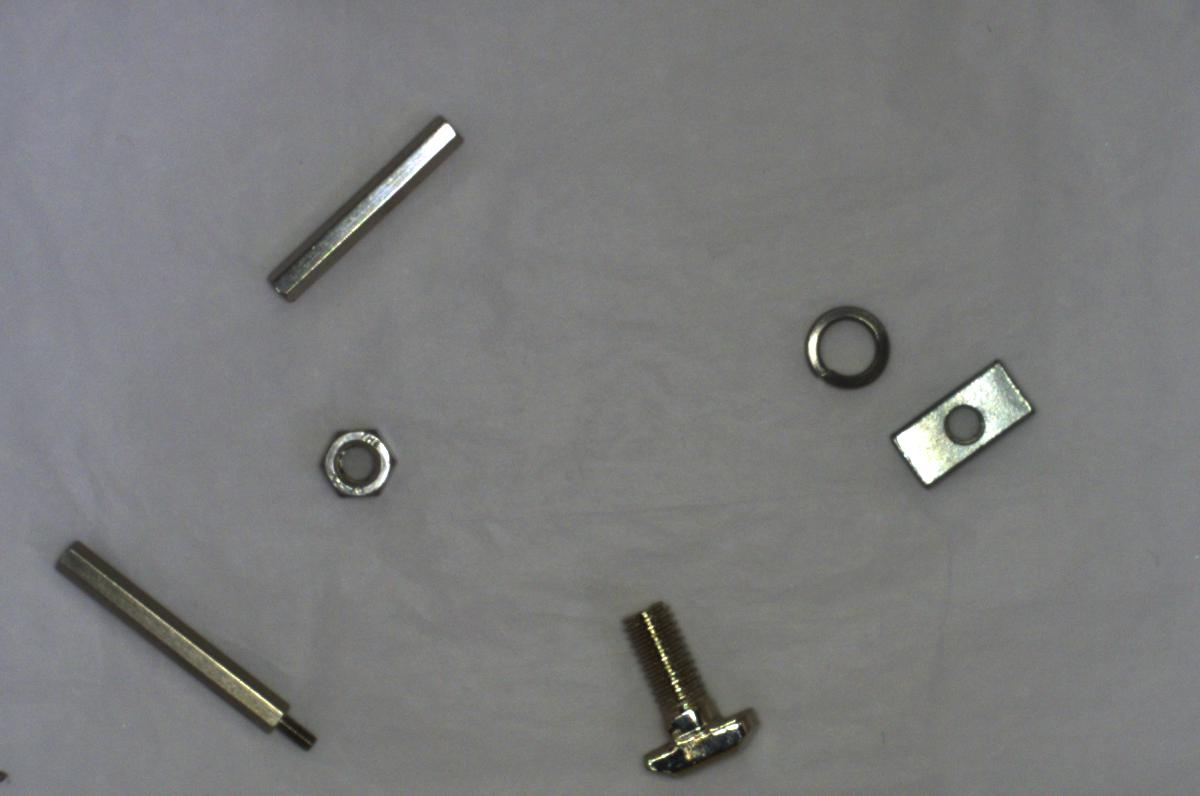Double hexagonal column: (254, 94, 471, 308)
Hexagon nut: (315, 419, 399, 501)
Hexagonal steel column: (48, 530, 327, 756)
Rectangular nut: (884, 356, 1044, 485)
Spring washer: (793, 296, 899, 392)
T-shaped screw: (617, 586, 766, 778)
